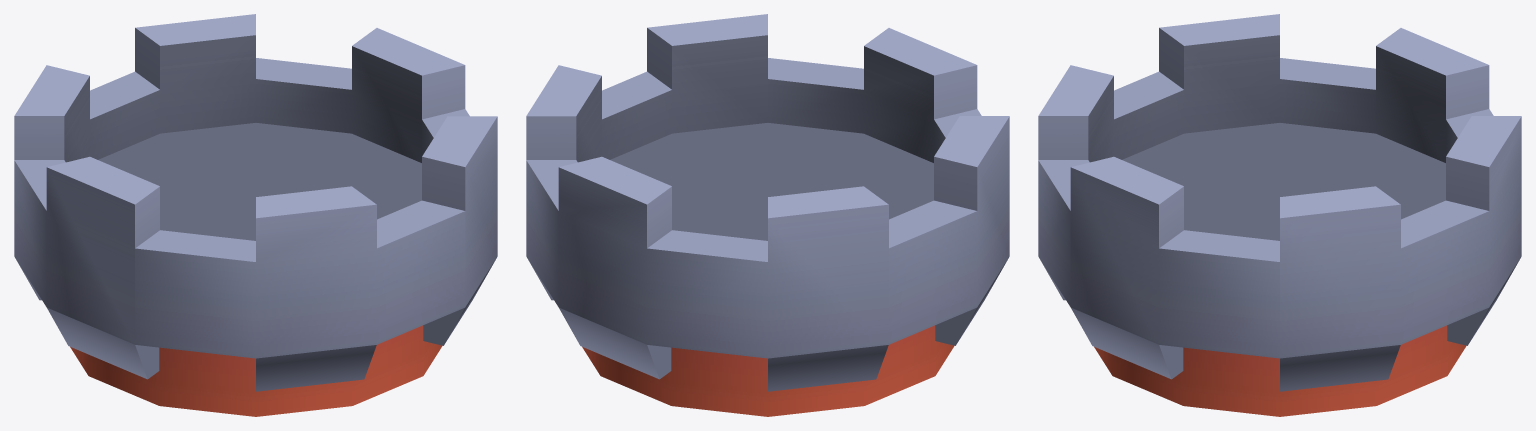
Rendered from kenney-tower-defense-tower-round-top-b.glb.
The picture shows the model from 3 angles, left to right: view 1: azimuth 30°, elevation 25°; view 2: azimuth 150°, elevation 25°; view 3: azimuth 270°, elevation 25°; orthographic projection.
Visible parts, largest first — view 1: tower-round-top-b; view 2: tower-round-top-b; view 3: tower-round-top-b.
Boxes of the visible parts, x1,y1,x2,y2 form: tower-round-top-b: (14,14,497,416); tower-round-top-b: (526,14,1009,416); tower-round-top-b: (1038,14,1521,416).
Bounding box in the file's own units: 1 × 0.5001 × 1.
Materials: 1 (1 with a texture image).
